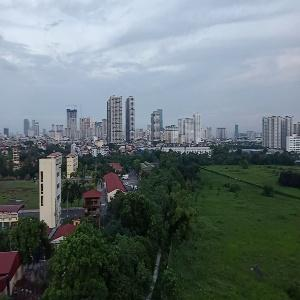drone: (237, 247, 286, 296)
